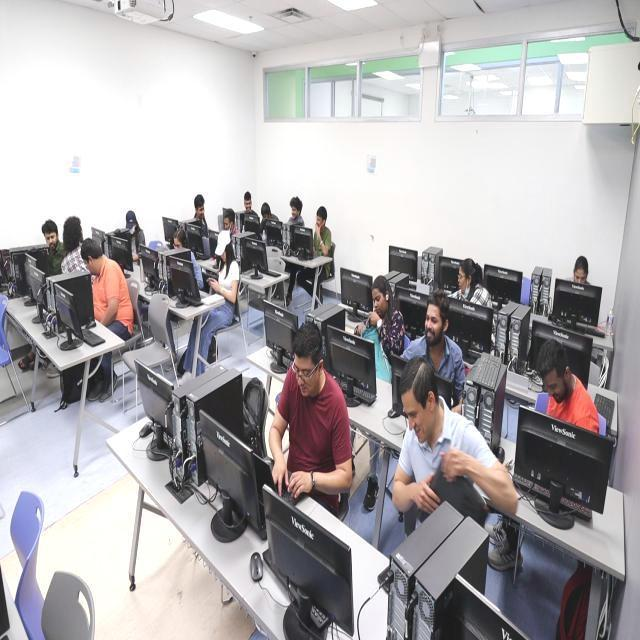Looking away: (400, 387, 430, 445), (292, 352, 316, 397), (542, 362, 565, 404), (423, 302, 443, 344), (372, 287, 386, 316), (573, 262, 588, 286), (456, 266, 468, 294), (44, 230, 58, 249), (84, 252, 96, 274), (218, 246, 228, 264), (196, 203, 206, 219), (223, 216, 233, 231), (315, 213, 324, 229), (174, 236, 182, 252), (244, 198, 252, 212), (291, 206, 299, 220), (261, 210, 270, 222)
